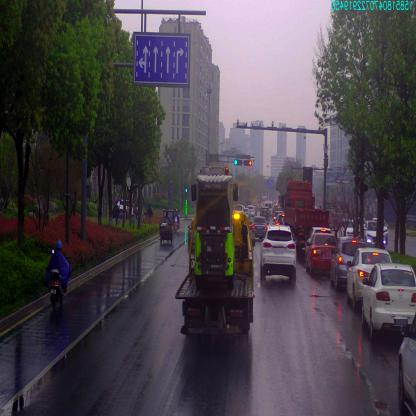traffic-light: (243, 158, 253, 167), (233, 158, 241, 166)
